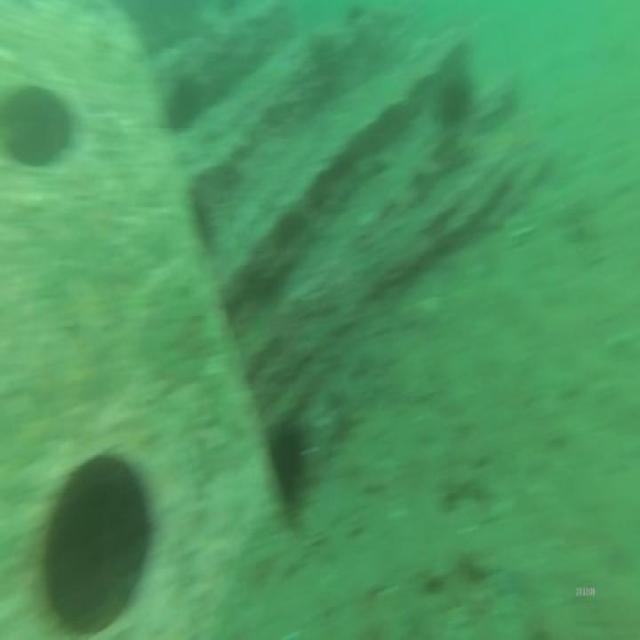echinus: (270, 405, 310, 515), (440, 60, 476, 131), (164, 71, 202, 128)
